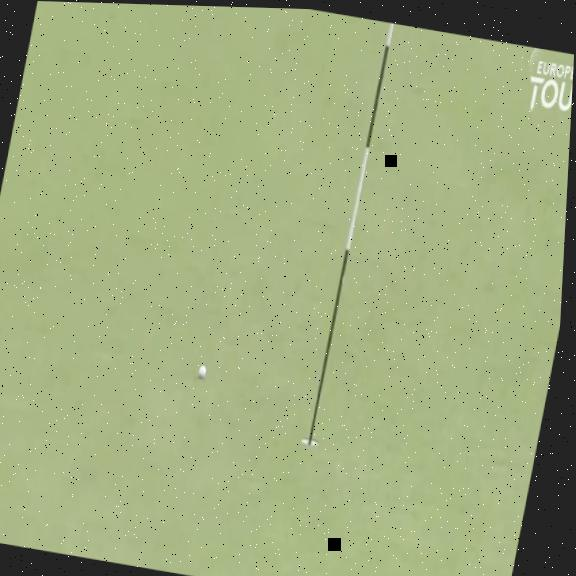GolfBall: (196, 356, 217, 387)
